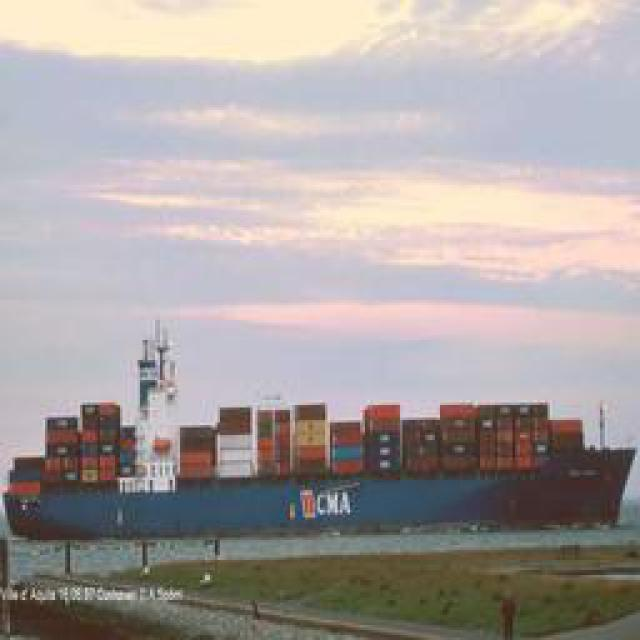Ship: (1, 384, 634, 540)
